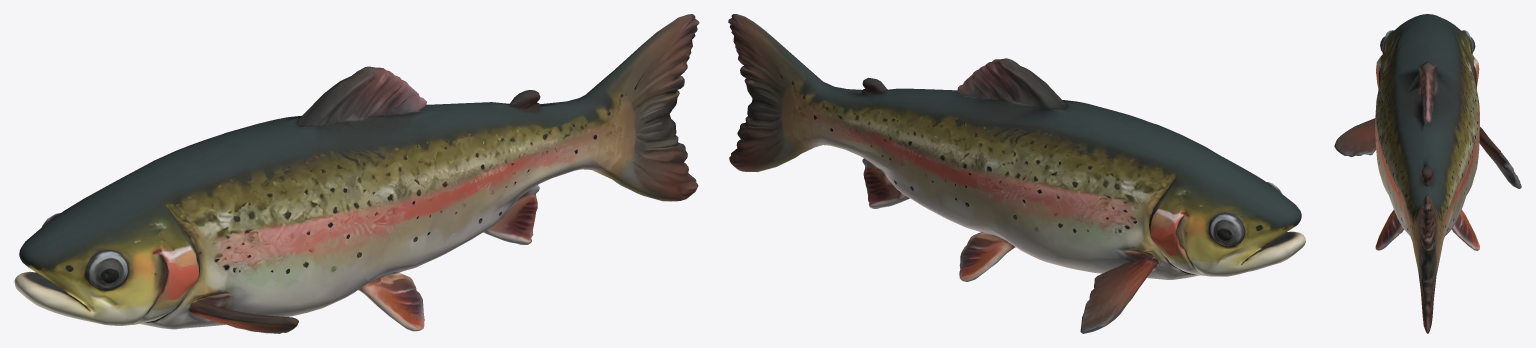
File: fish-forel.glb
The picture shows the model from 3 angles, left to right: view 1: azimuth 30°, elevation 25°; view 2: azimuth 150°, elevation 25°; view 3: azimuth 270°, elevation 25°; orthographic projection. The views are drawn at different scales.
Visible parts, largest first — view 1: tripo_node_20fb4a4f-ece6-4fad-886e-d06b4de25cc5; view 2: tripo_node_20fb4a4f-ece6-4fad-886e-d06b4de25cc5; view 3: tripo_node_20fb4a4f-ece6-4fad-886e-d06b4de25cc5.
Part boxes in pixels (x1=…): tripo_node_20fb4a4f-ece6-4fad-886e-d06b4de25cc5: x1=14, y1=14, x2=699, y2=333; tripo_node_20fb4a4f-ece6-4fad-886e-d06b4de25cc5: x1=728, y1=14, x2=1305, y2=333; tripo_node_20fb4a4f-ece6-4fad-886e-d06b4de25cc5: x1=1334, y1=14, x2=1521, y2=333.
Bounding box in the file's own units: 1 × 0.3416 × 0.3223.
1 material, 1 textured.
